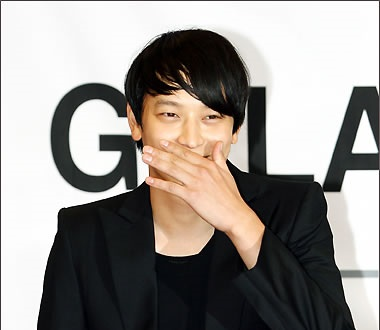face: (146, 76, 232, 190)
